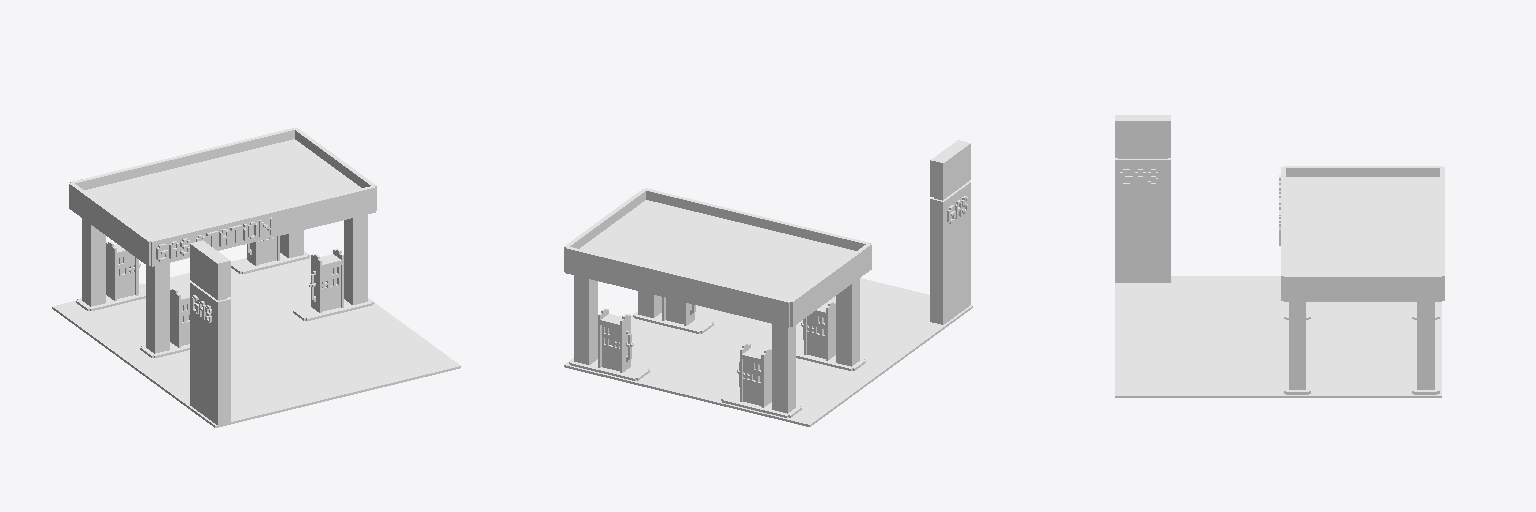
File: Gas_station.obj
3 renders of one model, left to right at view 1: azimuth 30°, elevation 25°; view 2: azimuth 150°, elevation 25°; view 3: azimuth 270°, elevation 25°, orthographic.
Visible parts, largest first — view 1: object 1; view 2: object 1; view 3: object 1.
Boxes of the visible parts, x1=… form: object 1: x1=52, y1=128, x2=460, y2=427; object 1: x1=564, y1=140, x2=972, y2=426; object 1: x1=1115, y1=115, x2=1444, y2=397.
Size of the model in its own units: 11.3 by 7.2 by 13.1.